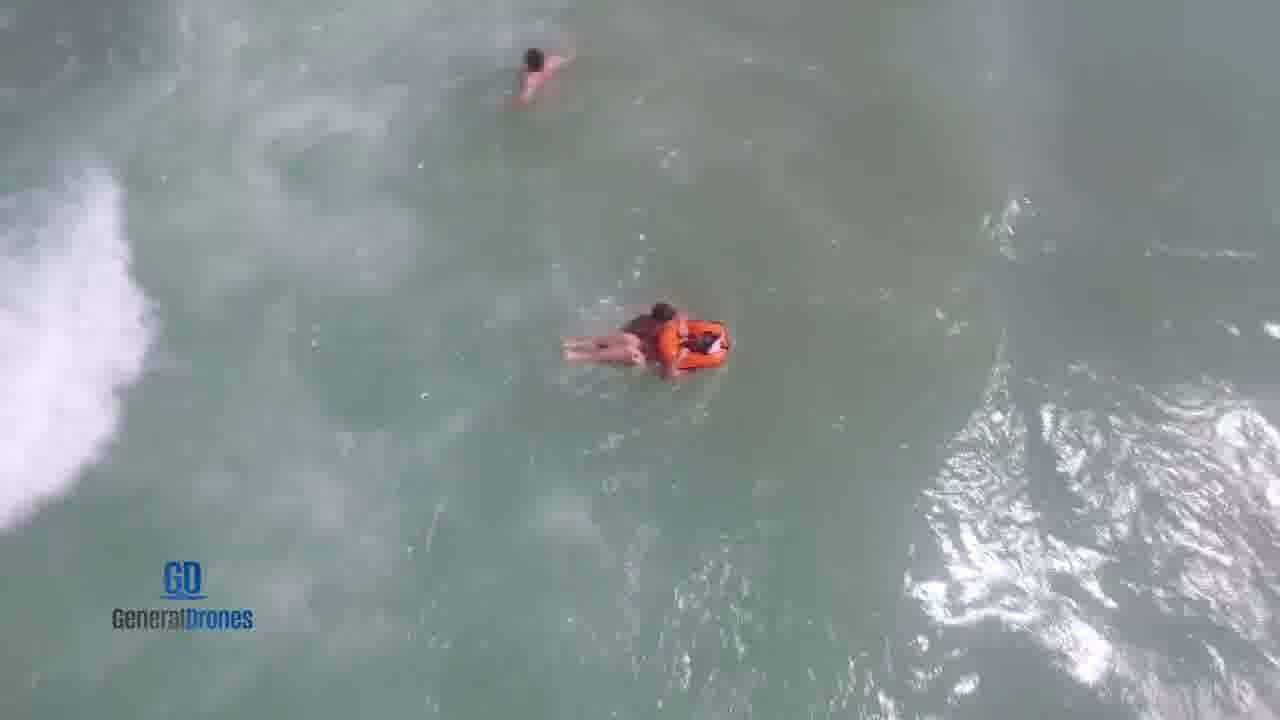human: (548, 327, 737, 376), (504, 37, 584, 103), (617, 294, 701, 330)
